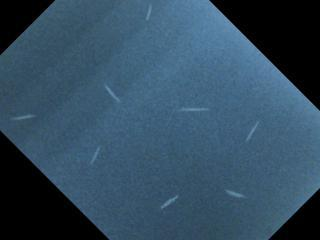scratch: (82, 140, 109, 168), (101, 81, 123, 106), (5, 110, 40, 125), (157, 192, 180, 213), (178, 102, 211, 116), (140, 0, 159, 23), (223, 188, 250, 201), (245, 120, 260, 143)
